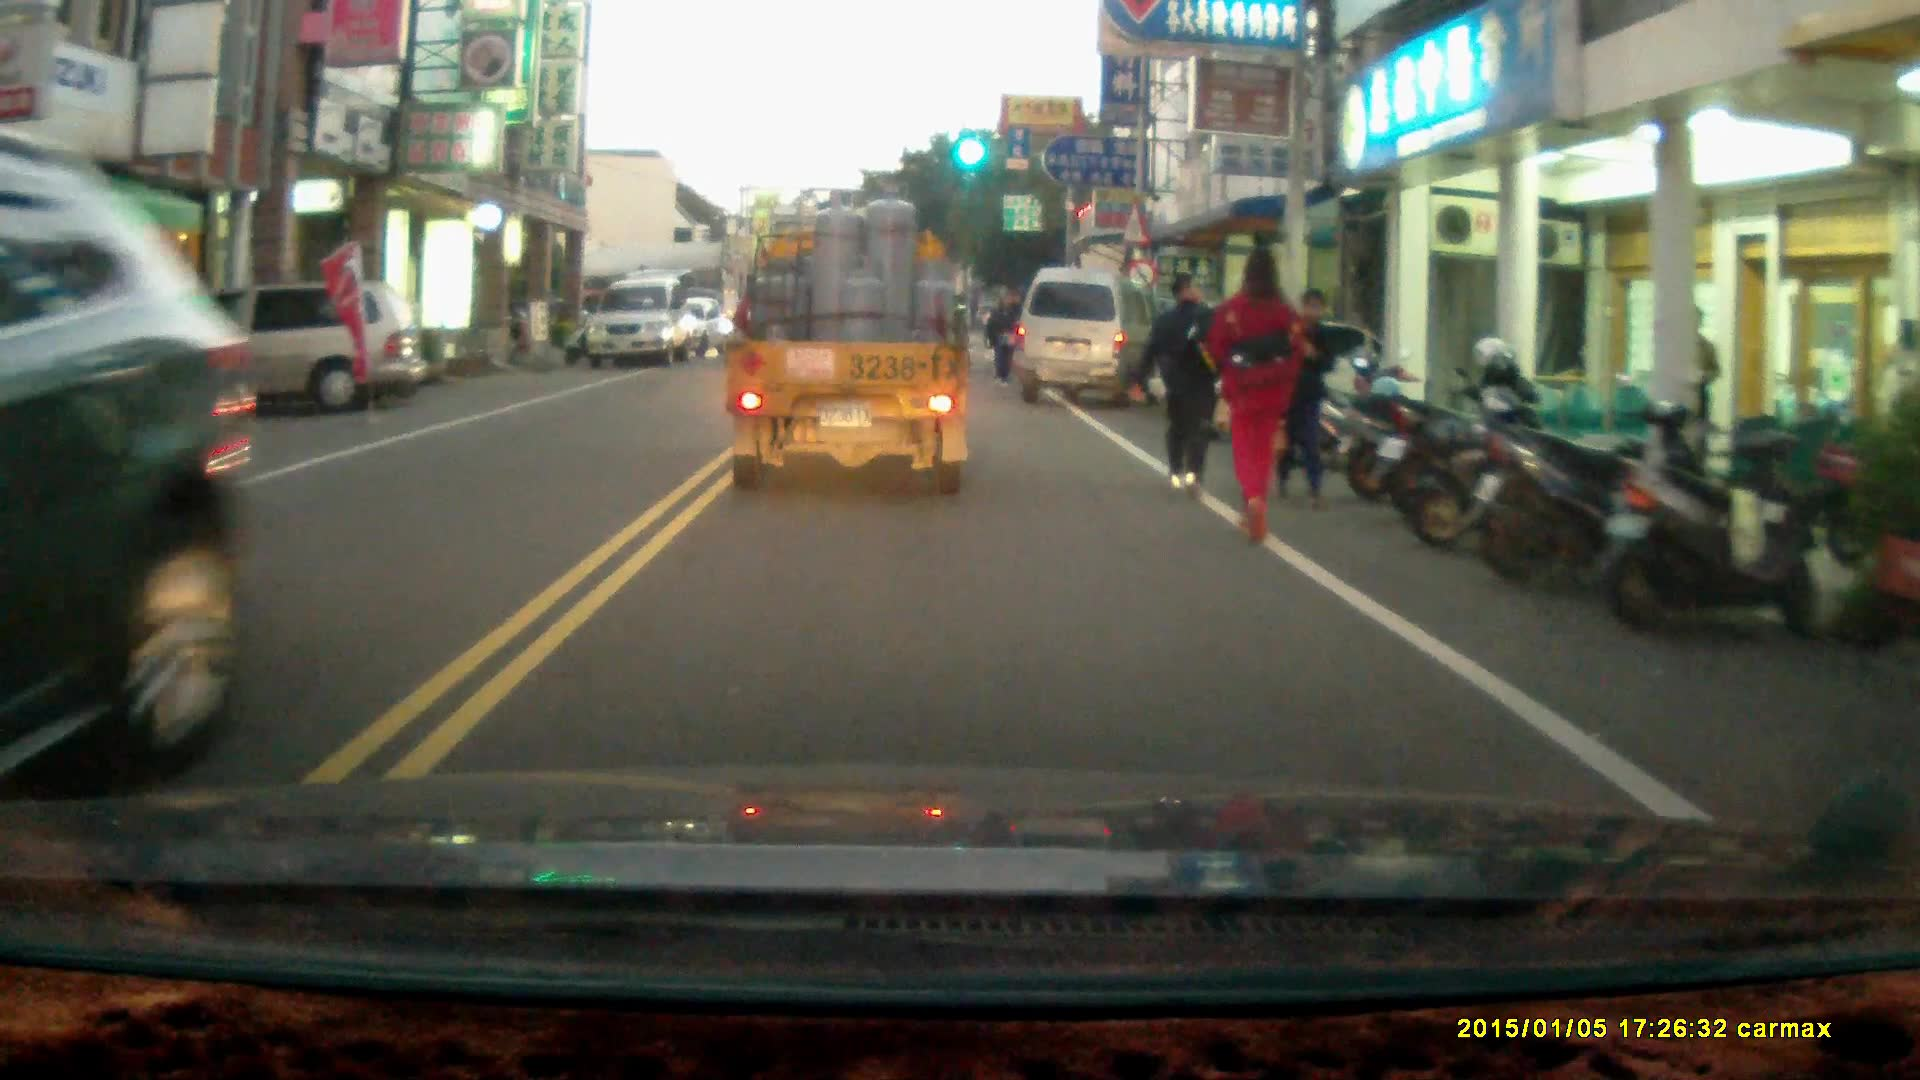pedestrian: (1211, 240, 1302, 551), (1133, 269, 1222, 497), (1276, 281, 1338, 506), (987, 294, 1022, 387)
vehicle: (1, 125, 260, 792), (716, 187, 978, 510), (135, 290, 423, 420), (1018, 265, 1162, 408), (591, 275, 705, 368)
